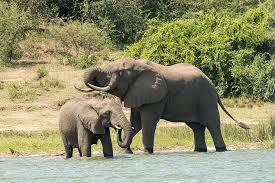elephant: (58, 58, 226, 157)
